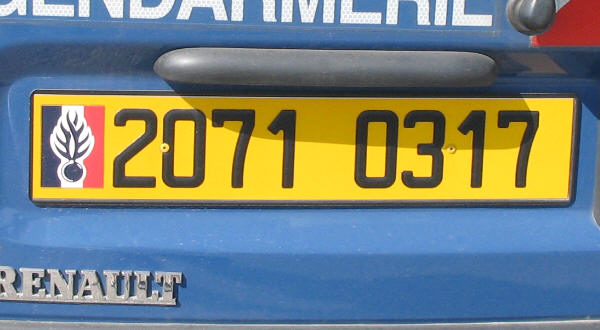license_plate: (30, 89, 579, 207)
